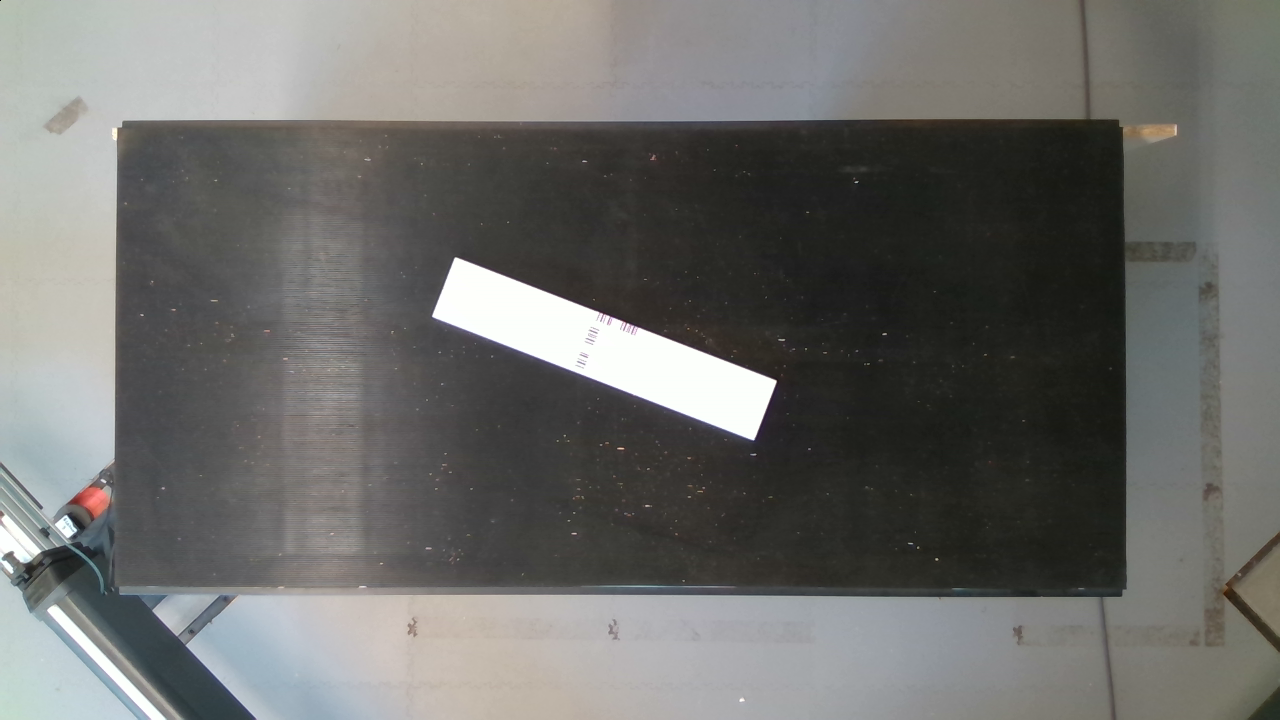barcode: (569, 300, 646, 393)
part1: (424, 249, 782, 455)
